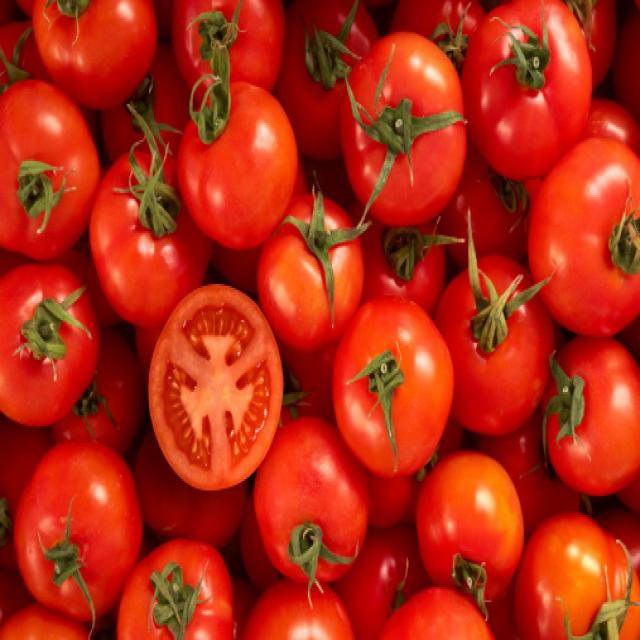Tomato: (159, 278, 296, 484)
